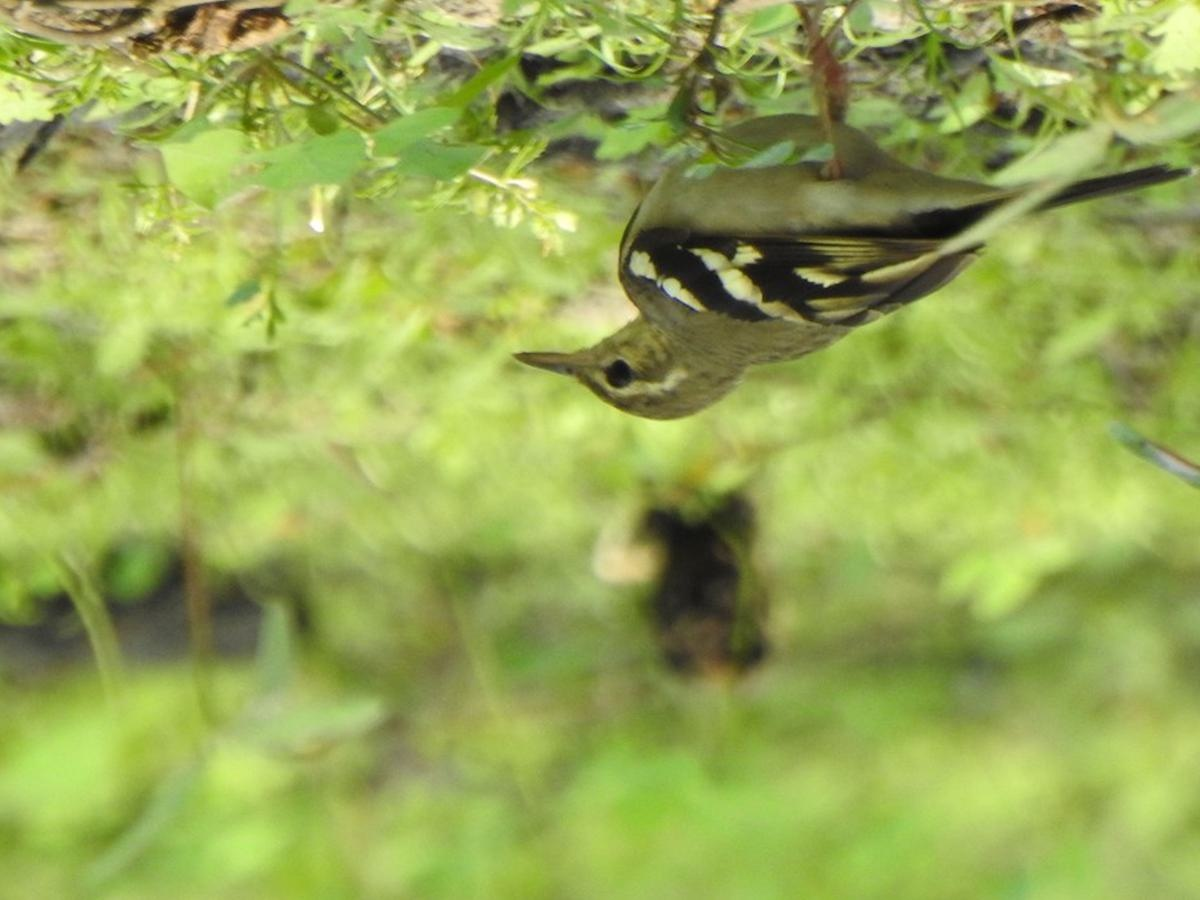wagtail: (490, 61, 1109, 456)
